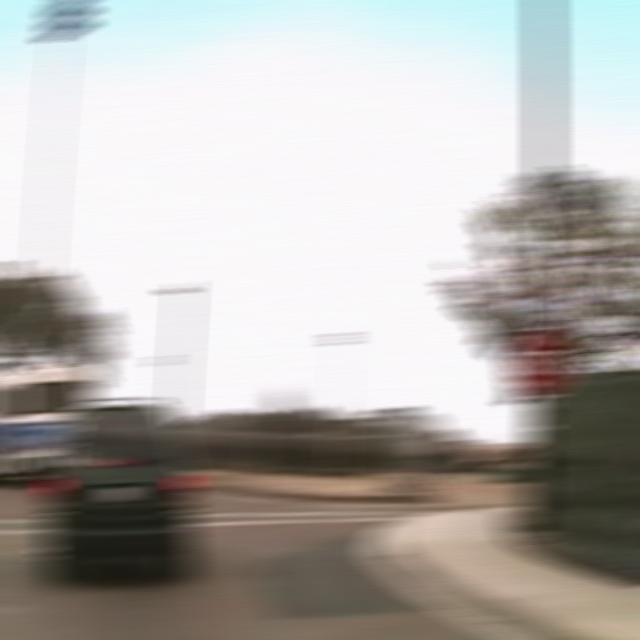stop_sign: (509, 325, 574, 399)
